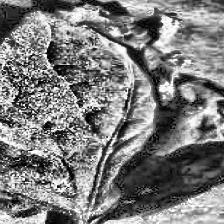disease: (0, 6, 224, 224)
